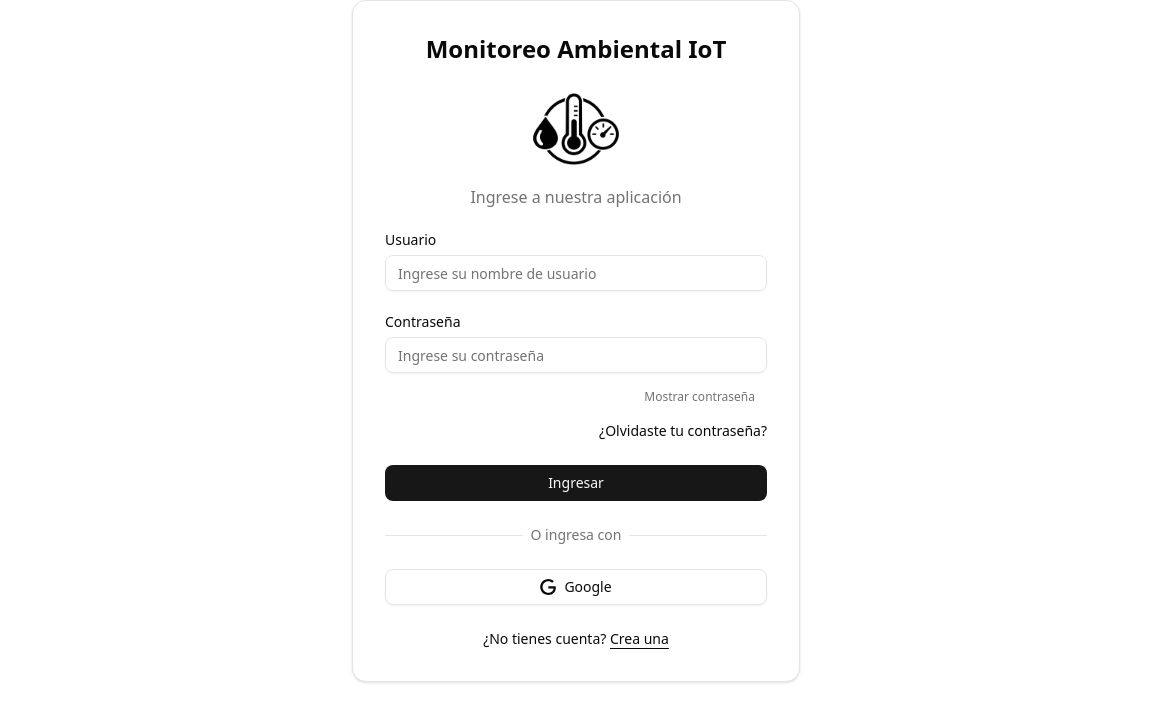
LoginPage › opens the forgot password dialog
Step 1. Click the link "¿Olvidaste tu contraseña?" → (683,431), box [599,421,767,441]
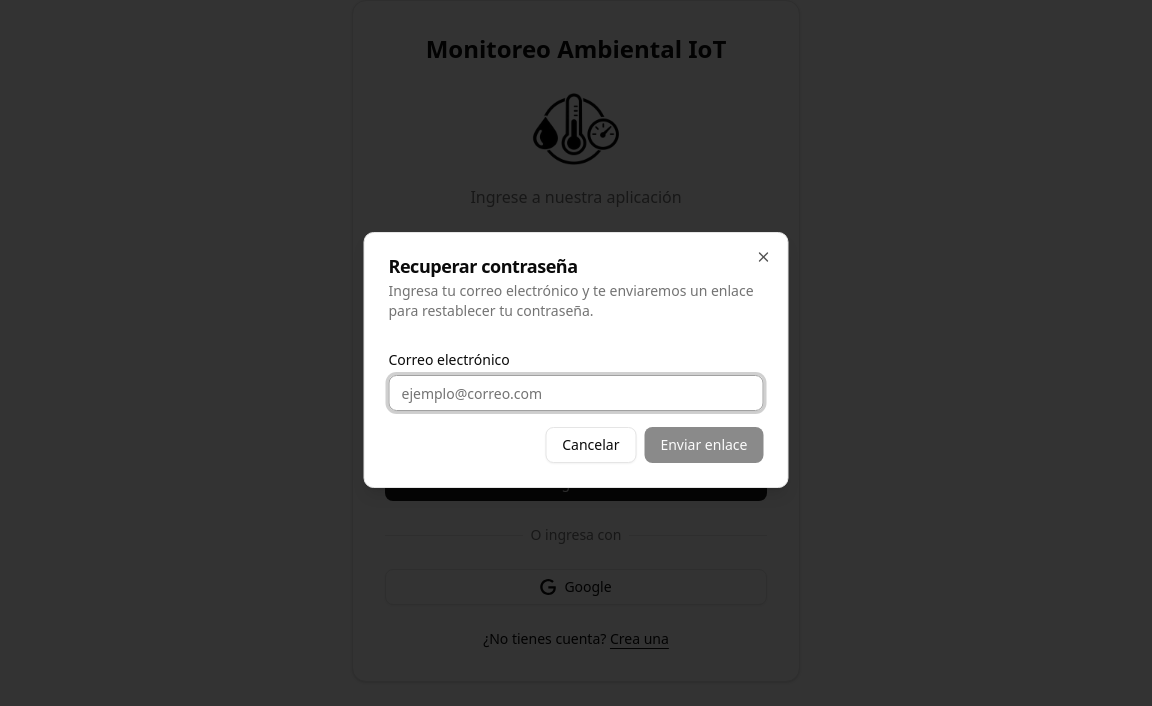
expect the heading "Recuperar contraseña" is shown: met, box [388,254,578,278]
